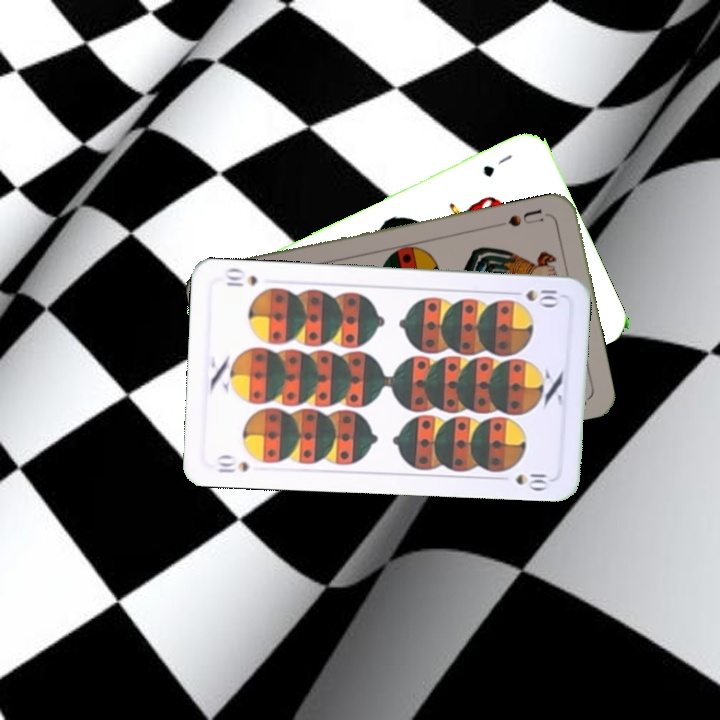GU: (478, 150, 515, 180)
S10: (213, 452, 252, 476), (522, 285, 562, 307)
SU: (494, 205, 552, 230)
